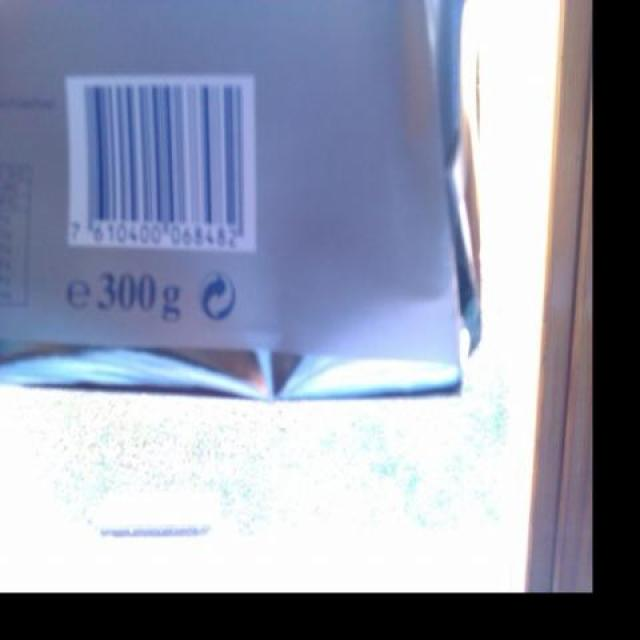Barcode: (62, 73, 258, 252)
